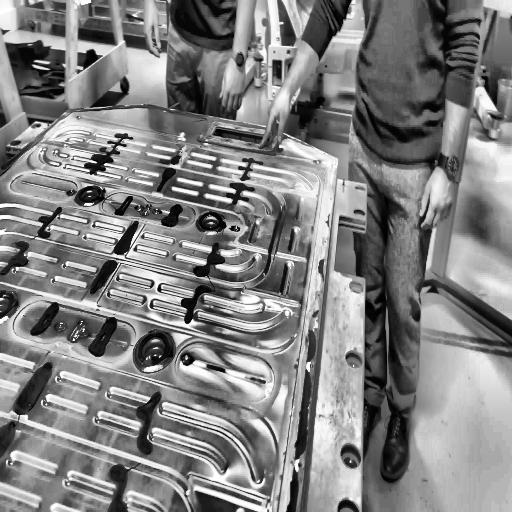b_casing: (0, 104, 369, 512)
